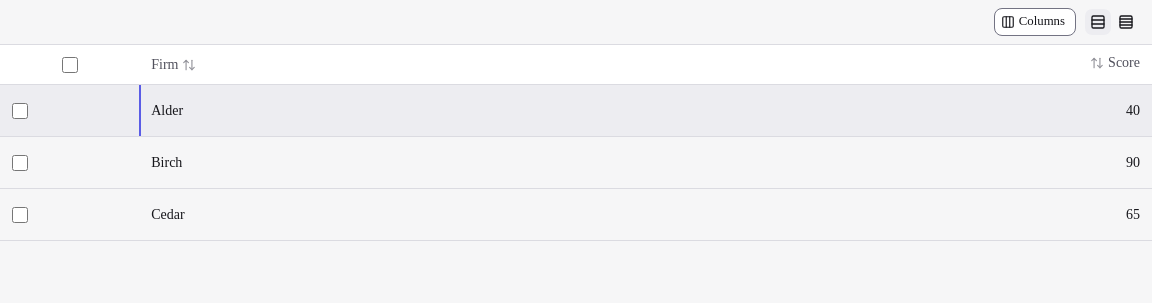
Test: DataGrid selection › selects all and clears
The width and height of the screenshot is (1152, 303).
Later steps or results of the test are not shown.
Click the checkbox named "Select all". click: (70, 65)
box: [62,57,78,73]
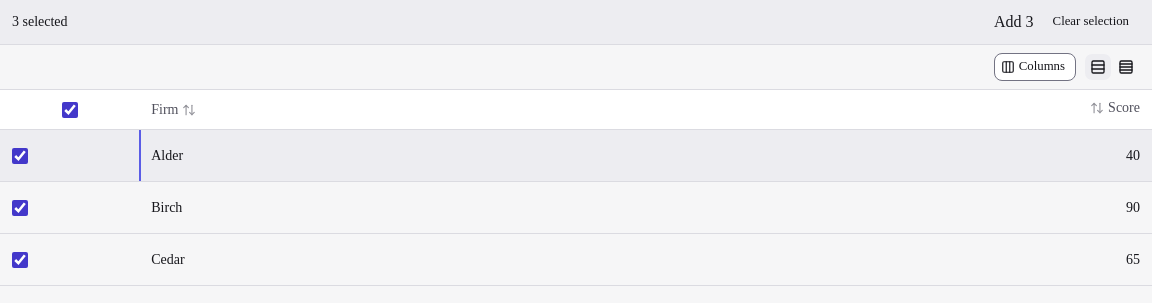
Expected: the element named "Bulk actions" shows "3 selected", [0,0,1151,45]
